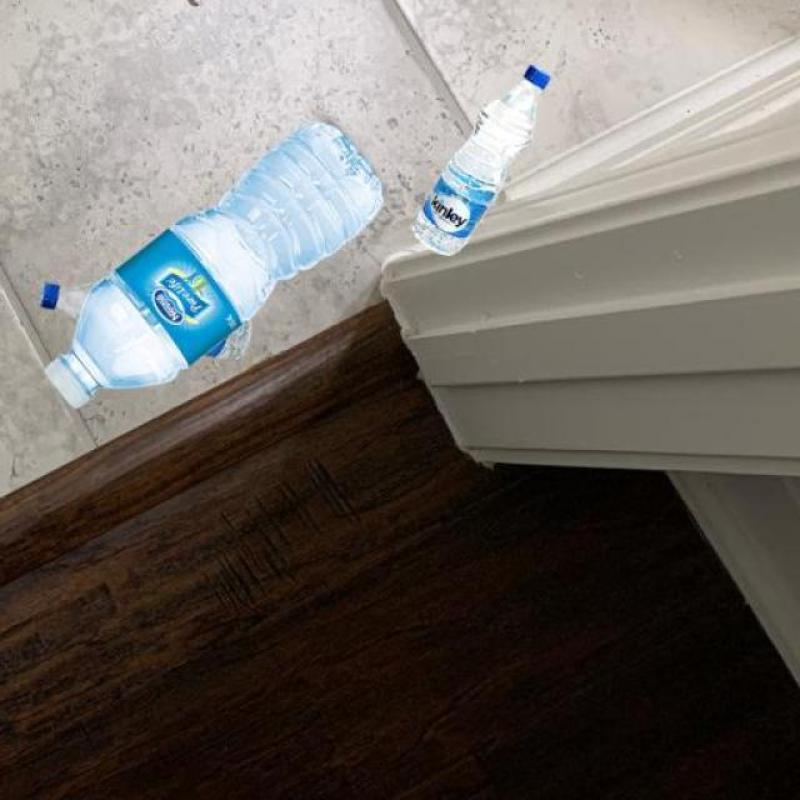botella: (44, 120, 387, 410), (410, 66, 552, 252), (39, 280, 249, 361)
